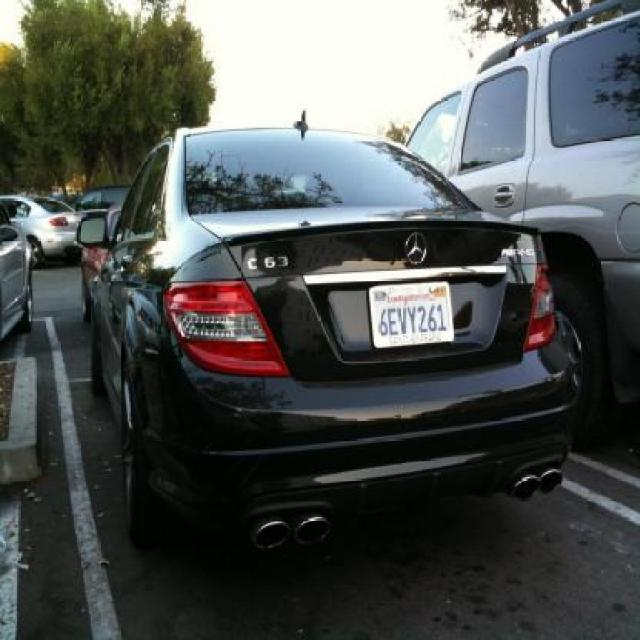License-Plates: (369, 281, 454, 348)
